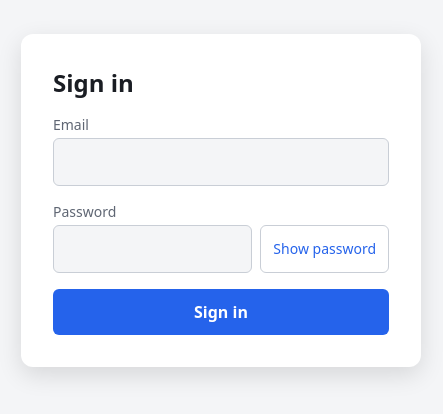
Test: LoginPage › shows_retryable_message_on_network_error
The width and height of the screenshot is (443, 414).
Type "alice@example.com" into the field labelled "Email". click: (221, 162)
box: [53,138,389,186]
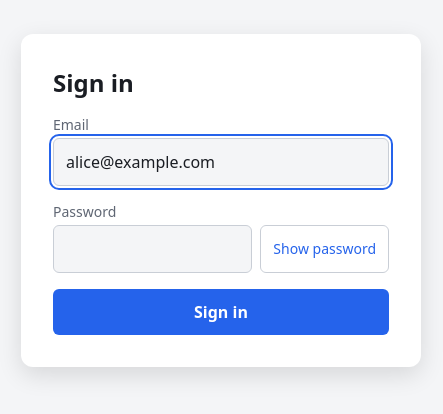
Type "Password123!" into the password field labelled "Password". click: (153, 248)
box: [53,224,252,272]
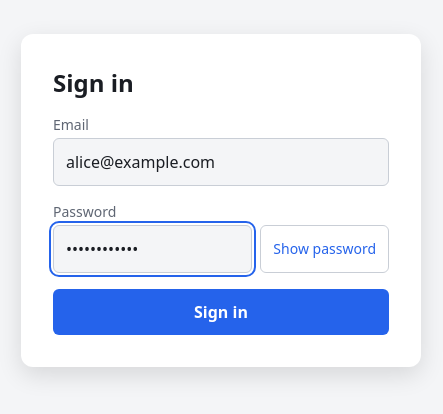
Click the button "Sign in". click: (221, 312)
box: [53,288,389,334]
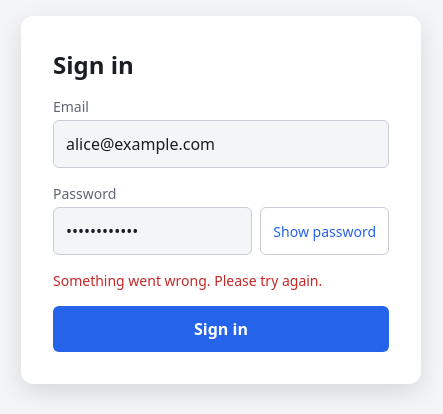
expect the message reads "Something went wrong. Please try again.": met, box [53,271,322,290]
Click the button "Sign in". click: (221, 329)
box: [53,306,389,352]
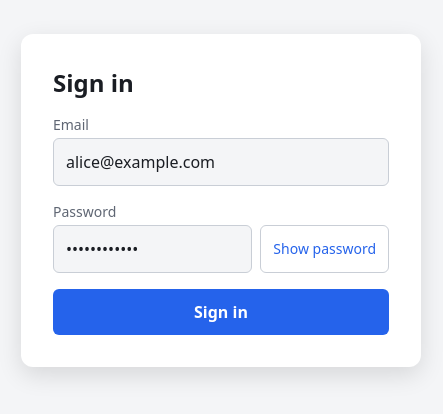
expect the message "Something went wrong. Please try again." is gone: met
